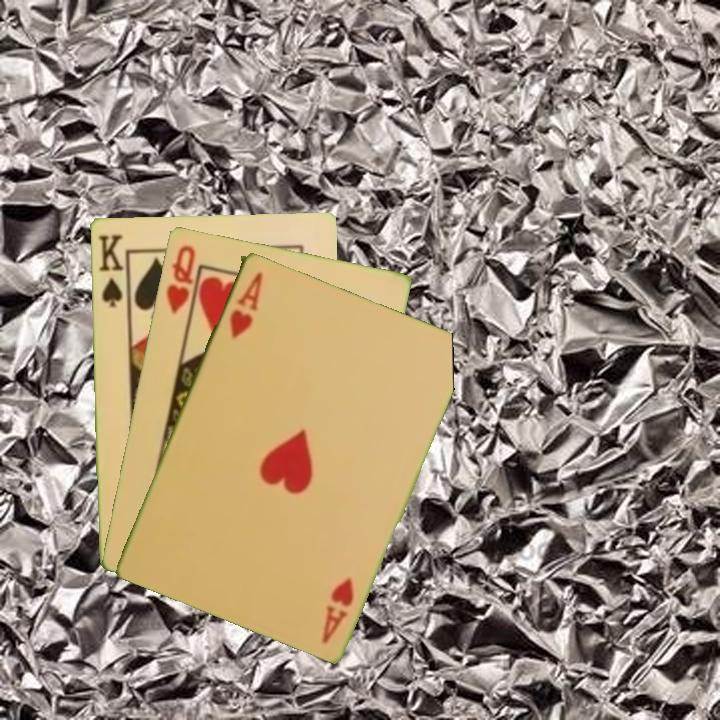Ah: (226, 267, 266, 342), (318, 573, 357, 646)
Ks: (94, 230, 126, 310)
Qh: (162, 241, 198, 316)
